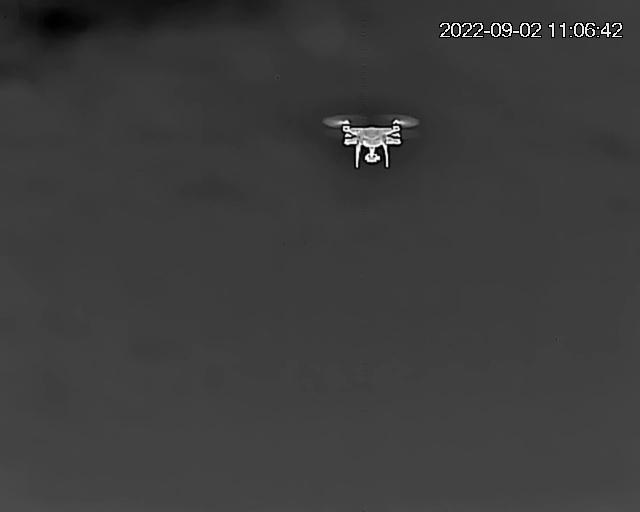DJI-Phantom: (327, 112, 417, 167)
